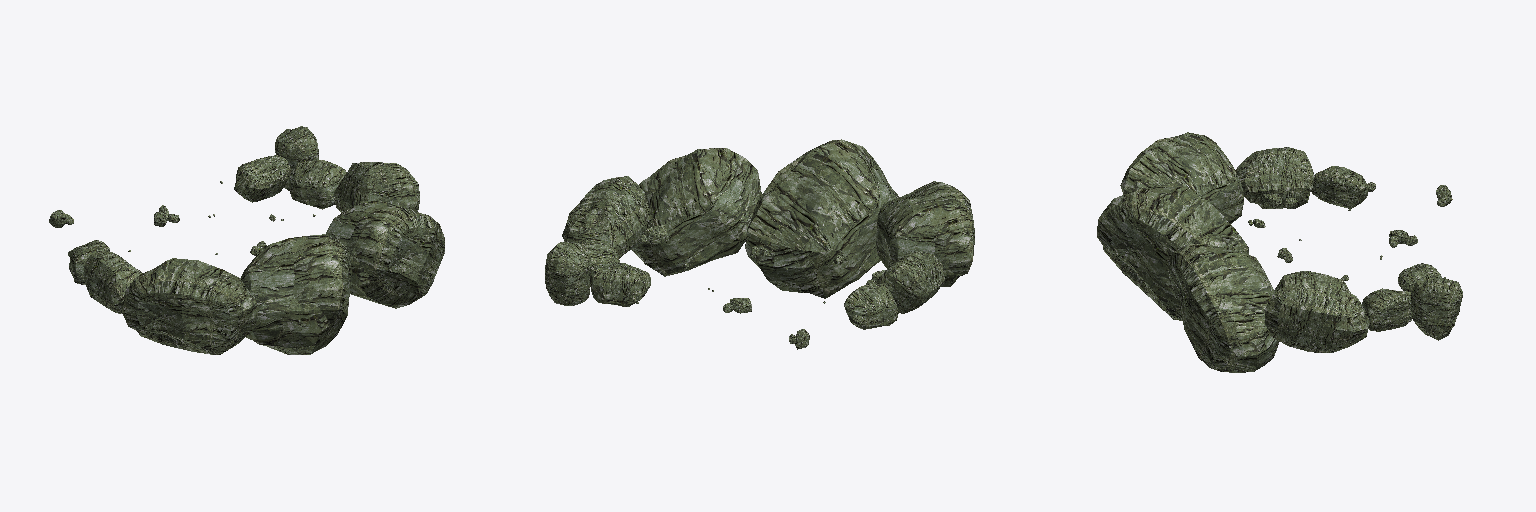
The picture shows the model from 3 angles: view 1: azimuth 30°, elevation 25°; view 2: azimuth 150°, elevation 25°; view 3: azimuth 270°, elevation 25°; orthographic projection.
Visible parts, largest first — view 1: rock_160.005_Cube.049; view 2: rock_160.005_Cube.049; view 3: rock_160.005_Cube.049.
Part boxes in pixels (bbox=[...]): rock_160.005_Cube.049: bbox=[49, 126, 444, 354]; rock_160.005_Cube.049: bbox=[545, 139, 974, 349]; rock_160.005_Cube.049: bbox=[1097, 132, 1462, 372].
Bounding box in the file's own units: 47.8 × 17.05 × 44.76.
Materials: 4 (1 with a texture image).